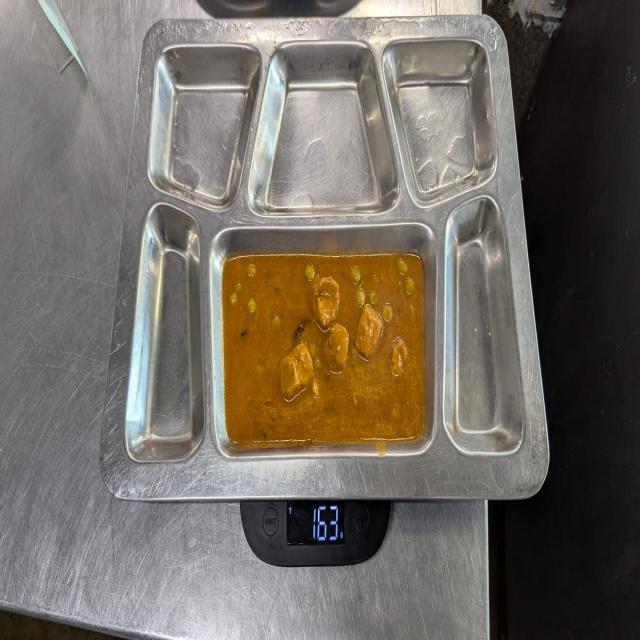Soya Matar: (222, 262, 424, 433)
